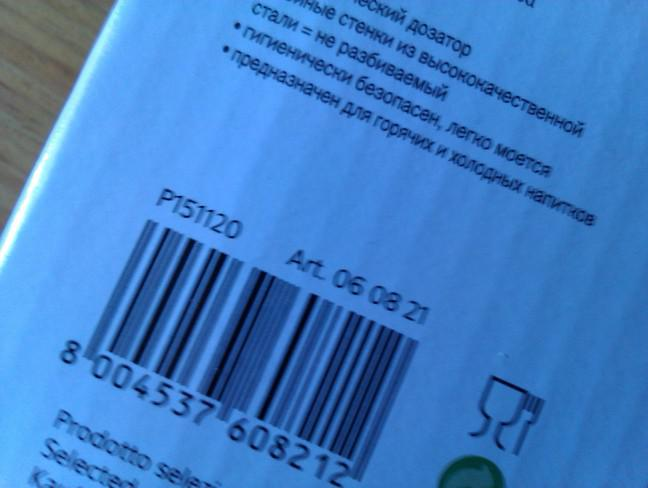Barkod: (36, 201, 445, 484)
